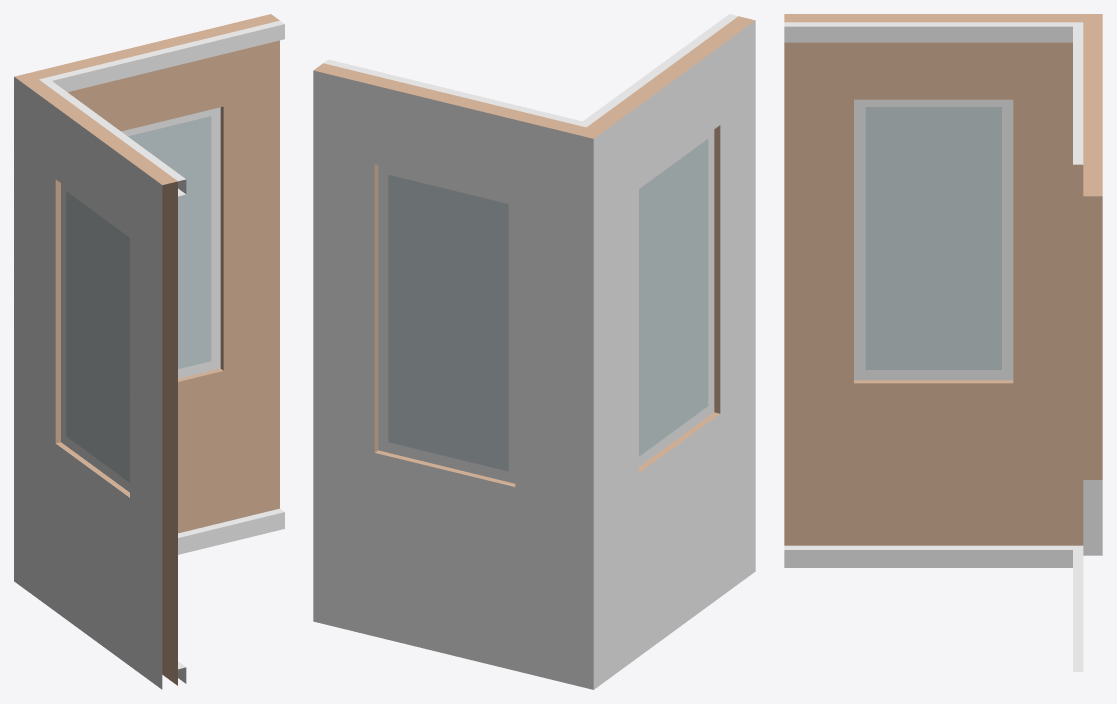
File: Wall01_corner_02.fbx
3 renders of one model, left to right at view 1: azimuth 30°, elevation 25°; view 2: azimuth 150°, elevation 25°; view 3: azimuth 270°, elevation 25°, orthographic. The views are drawn at different scales.
Visible parts, largest first — view 1: Cube.016; view 2: Cube.016; view 3: Cube.016.
Part boxes in pixels (left/top/right/bottom): Cube.016: left=14, top=14, right=284, bottom=689; Cube.016: left=313, top=14, right=755, bottom=689; Cube.016: left=784, top=14, right=1102, bottom=671.
Bounding box in the file's own units: 2.13 × 4 × 2.13.
